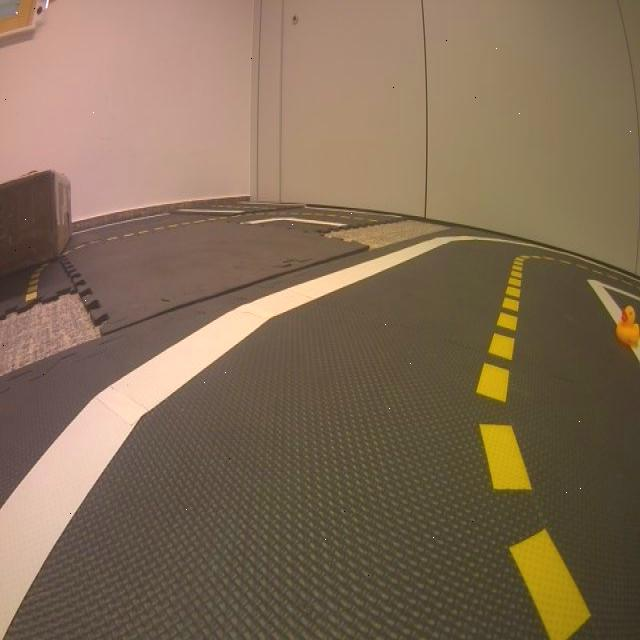duckie: (614, 302, 640, 348)
